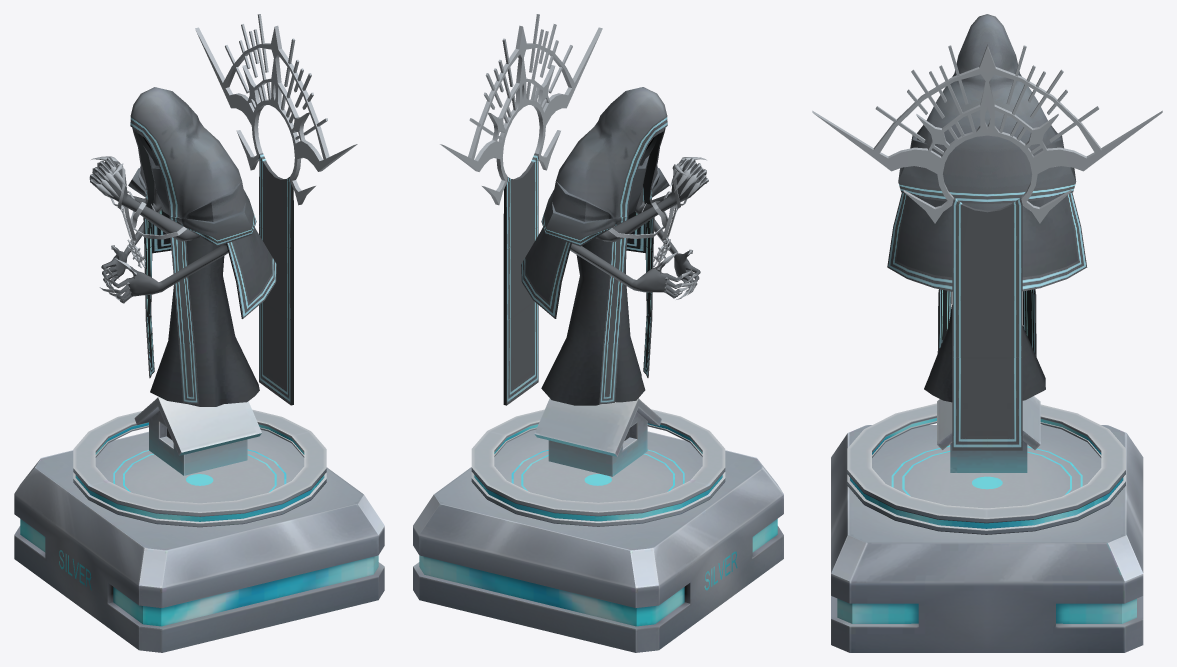
Rendered from my_trophy_hieronymus_indoor_silver.glb.
3 renders of one model, left to right at view 1: azimuth 30°, elevation 25°; view 2: azimuth 150°, elevation 25°; view 3: azimuth 270°, elevation 25°, orthographic. The views are drawn at different scales.
Parts seen in each view (by area): view 1: my_trophy_hieronymus_indoor_silver; view 2: my_trophy_hieronymus_indoor_silver; view 3: my_trophy_hieronymus_indoor_silver.
Part boxes in pixels (left/top/right/bottom): my_trophy_hieronymus_indoor_silver: left=14, top=14, right=384, bottom=652; my_trophy_hieronymus_indoor_silver: left=413, top=14, right=783, bottom=652; my_trophy_hieronymus_indoor_silver: left=812, top=14, right=1162, bottom=652.
Bounding box in the file's own units: 0.00391 × 0.00804 × 0.00438.
Materials: 3 (3 with a texture image).
